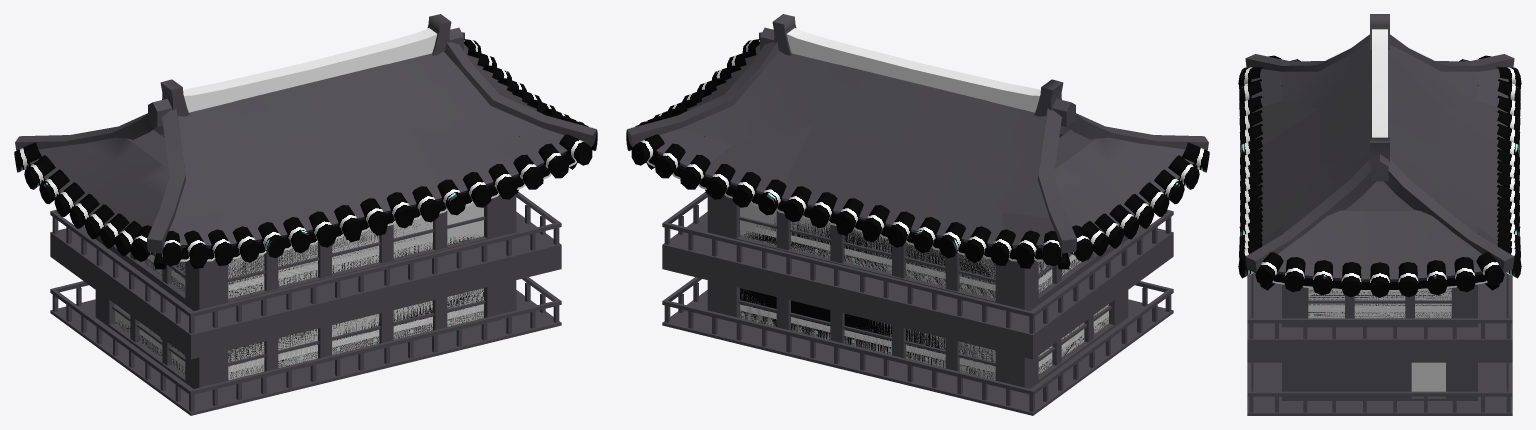
The model's file is house2.fbx.
The picture shows the model from 3 angles, left to right: view 1: azimuth 30°, elevation 25°; view 2: azimuth 150°, elevation 25°; view 3: azimuth 270°, elevation 25°; orthographic projection. The views are drawn at different scales.
Parts seen in each view (by area): view 1: base, banister, window_003, window_002, windowframe; view 2: base, banister, window_003, window_002, windowframe; view 3: base, banister, window_003, windowframe, window_002.
Part boxes in pixels (x1,y1,x2,y2): base: (14, 14, 597, 415); banister: (50, 192, 561, 411); window_003: (115, 202, 483, 379); window_002: (115, 222, 483, 379); windowframe: (112, 211, 485, 371); base: (626, 14, 1209, 415); banister: (662, 192, 1173, 411); window_003: (740, 202, 1108, 379); window_002: (740, 218, 1108, 379); windowframe: (738, 211, 1111, 371); base: (1238, 14, 1521, 415); banister: (1247, 273, 1512, 412); window_003: (1308, 288, 1451, 391); windowframe: (1308, 295, 1451, 318); window_002: (1308, 288, 1451, 318).
Bounding box in the file's own units: 870 × 478 × 486.
